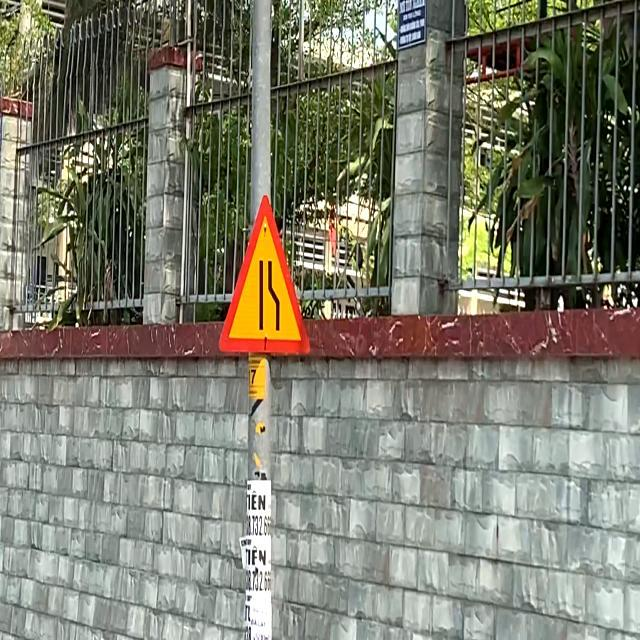W-203c: (219, 194, 313, 358)
